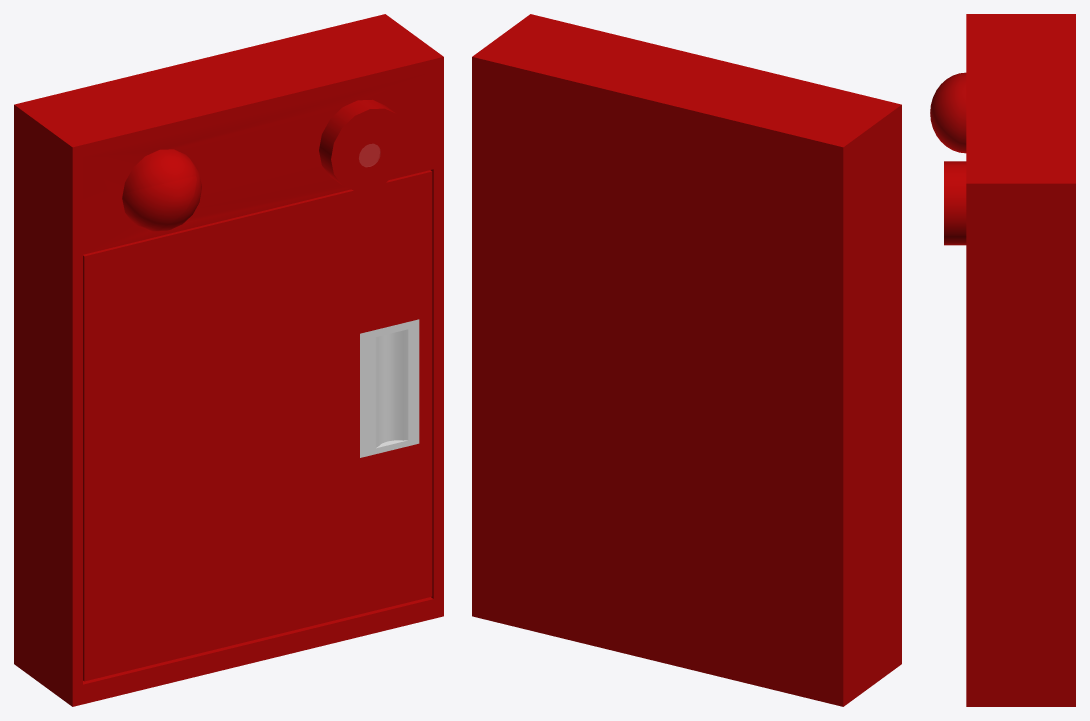
The model's file is FireHydrant_3DModel.fbx.
3 renders of one model, left to right at view 1: azimuth 30°, elevation 25°; view 2: azimuth 150°, elevation 25°; view 3: azimuth 270°, elevation 25°, orthographic. The views are drawn at different scales.
Visible parts, largest first — view 1: FireHydrantCover, FireHydrantBox; view 2: FireHydrantBox; view 3: FireHydrantBox.
Part boxes in pixels (x1,y1,x2,y2): FireHydrantCover: [83, 170, 432, 681]; FireHydrantBox: [14, 14, 443, 706]; FireHydrantBox: [472, 14, 901, 706]; FireHydrantBox: [930, 14, 1075, 706].
Bounding box in the file's own units: 0.9375 × 1.35 × 0.3406.
